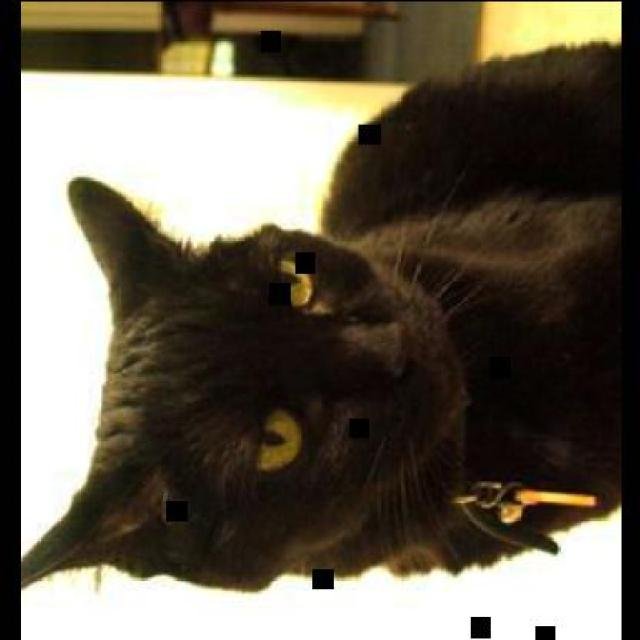unauthorized: (18, 39, 620, 592)
